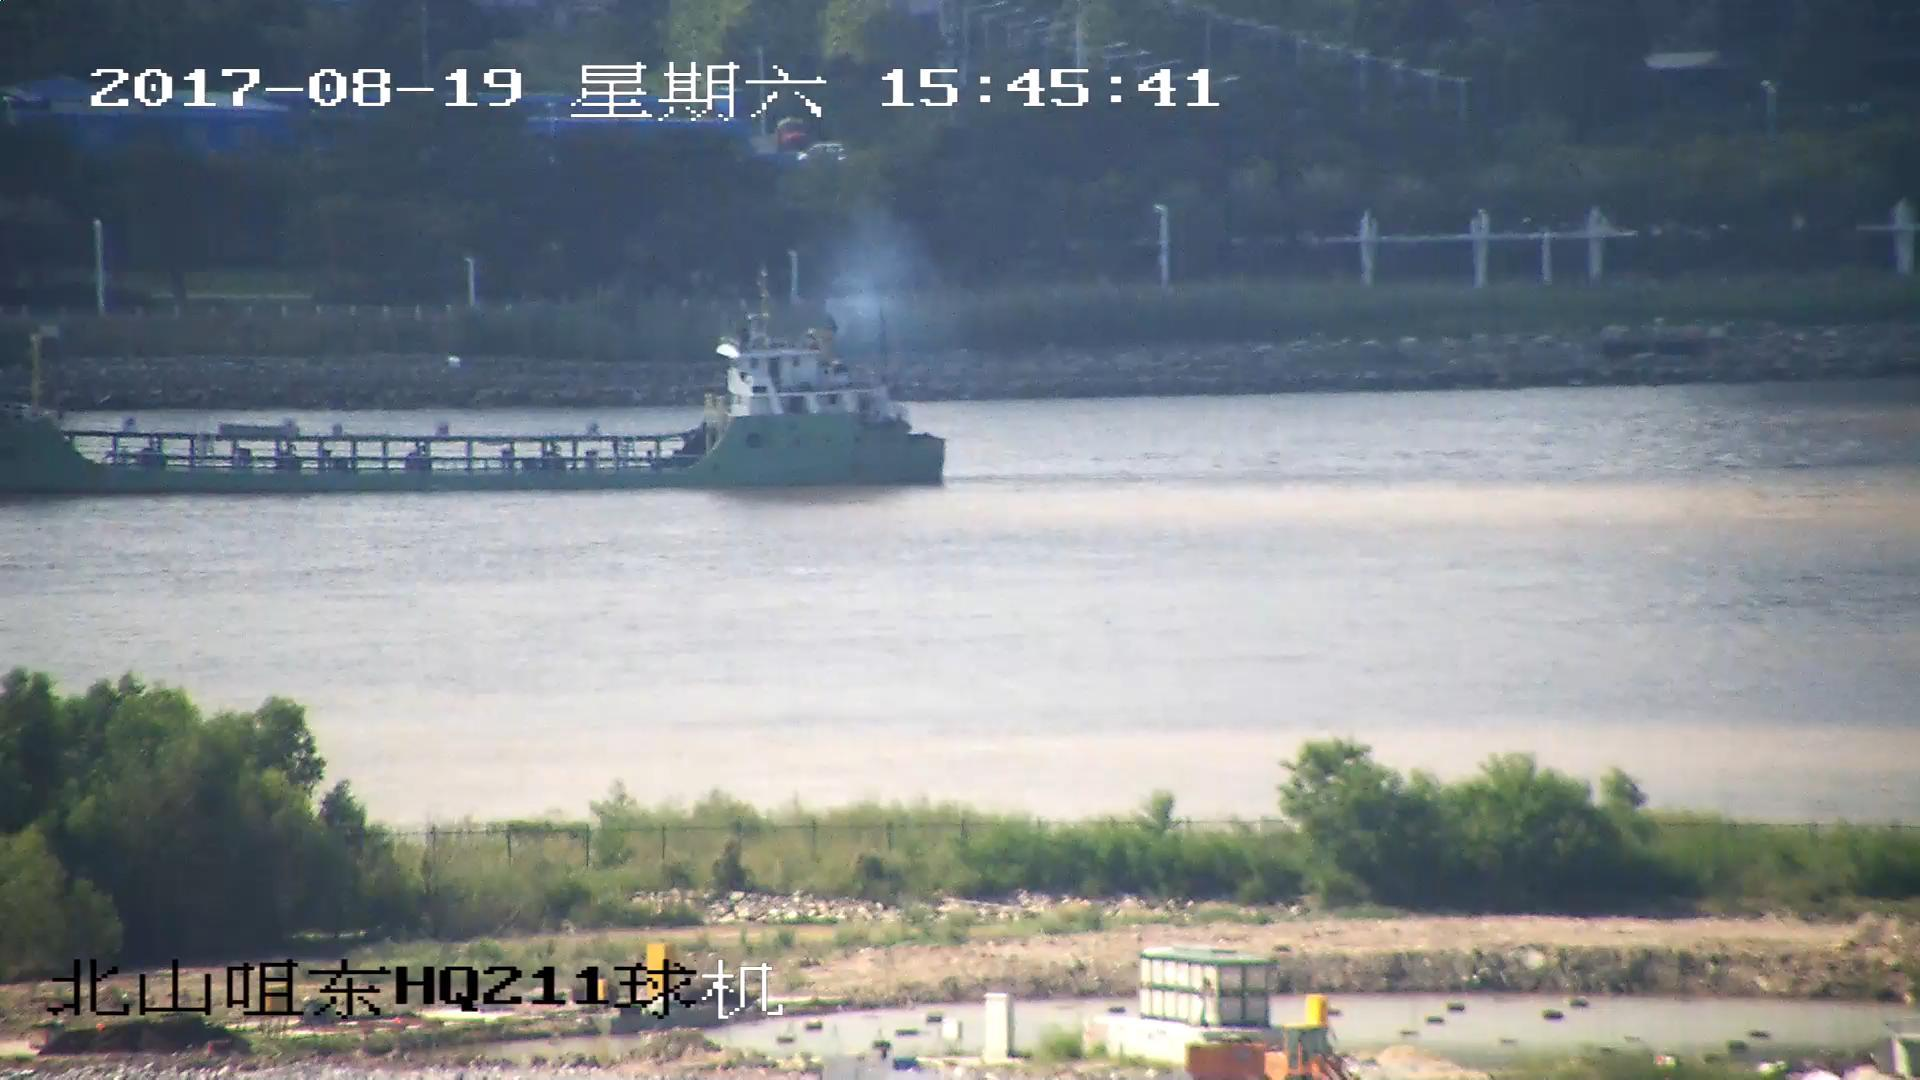Ship: (3, 280, 949, 491)
